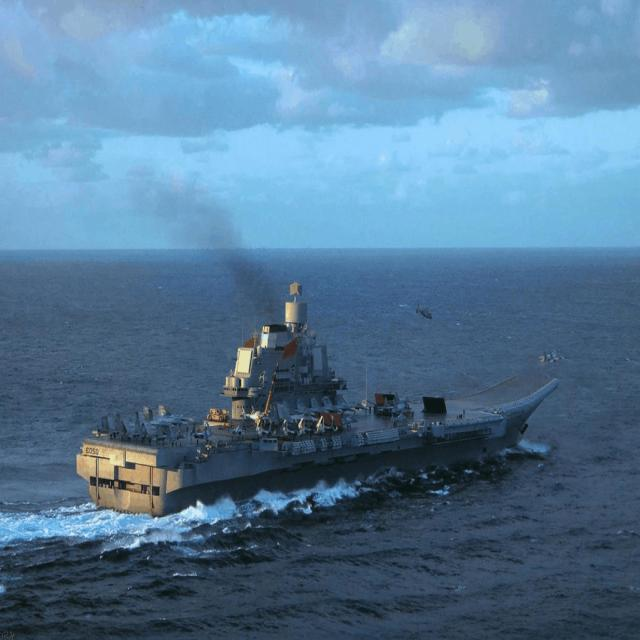navalvessels: (76, 287, 562, 514)
